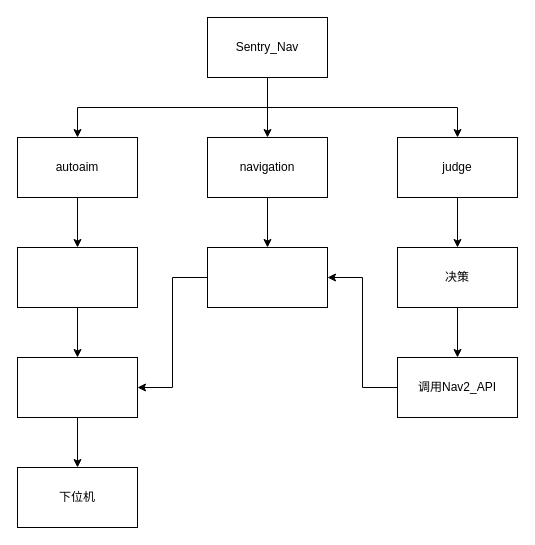
This 535x545 diagram has some shape labels left out. The shapes that lost their labels are listed below. From the top down, each one's centre as x and y in pixels, then its label:
At [77,277]: "自瞄".
At [267,277]: "导航".
At [77,387]: "rm_serial_driver".
